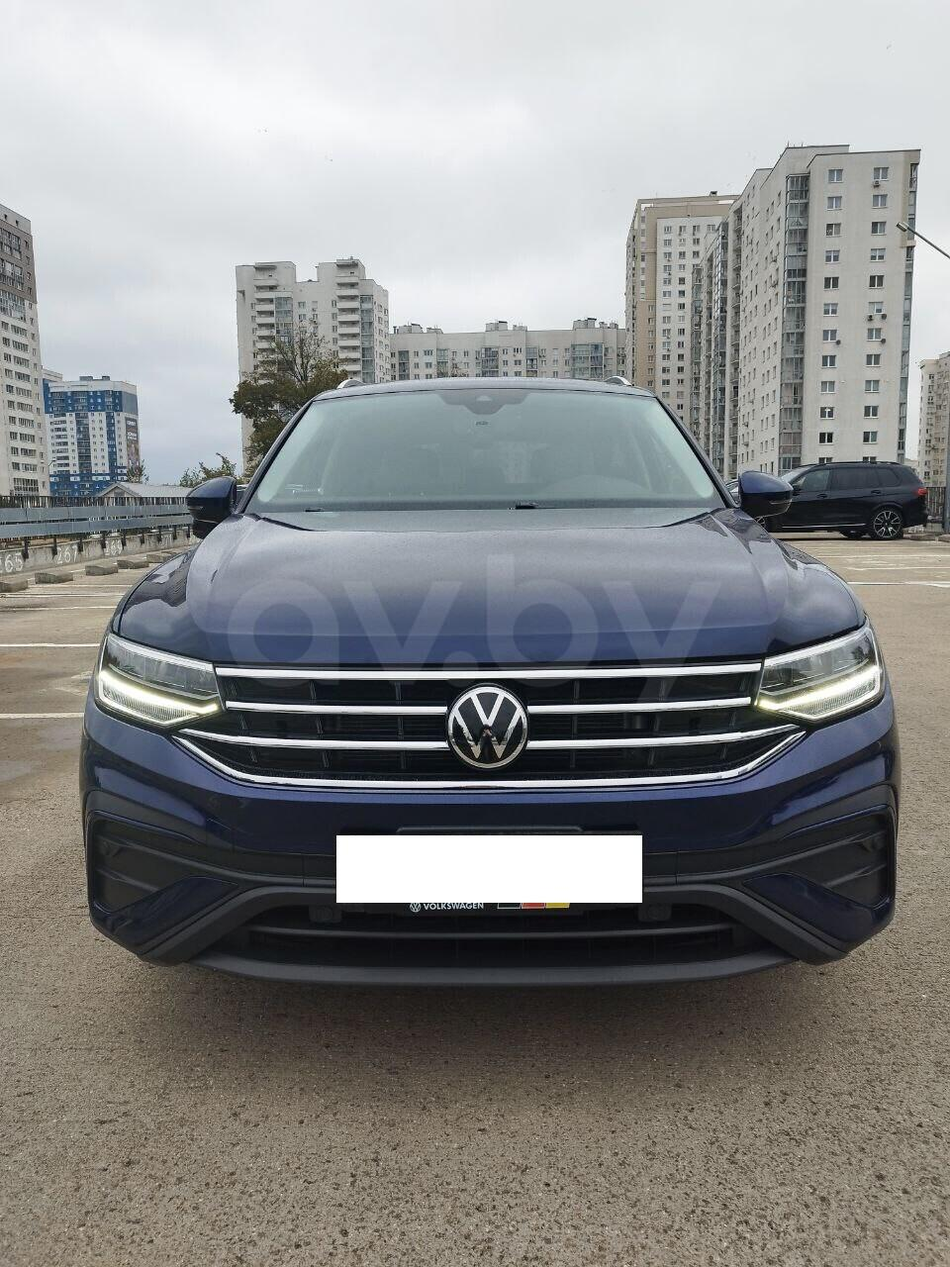Tiguan_2020-2024: (64, 371, 909, 998)
